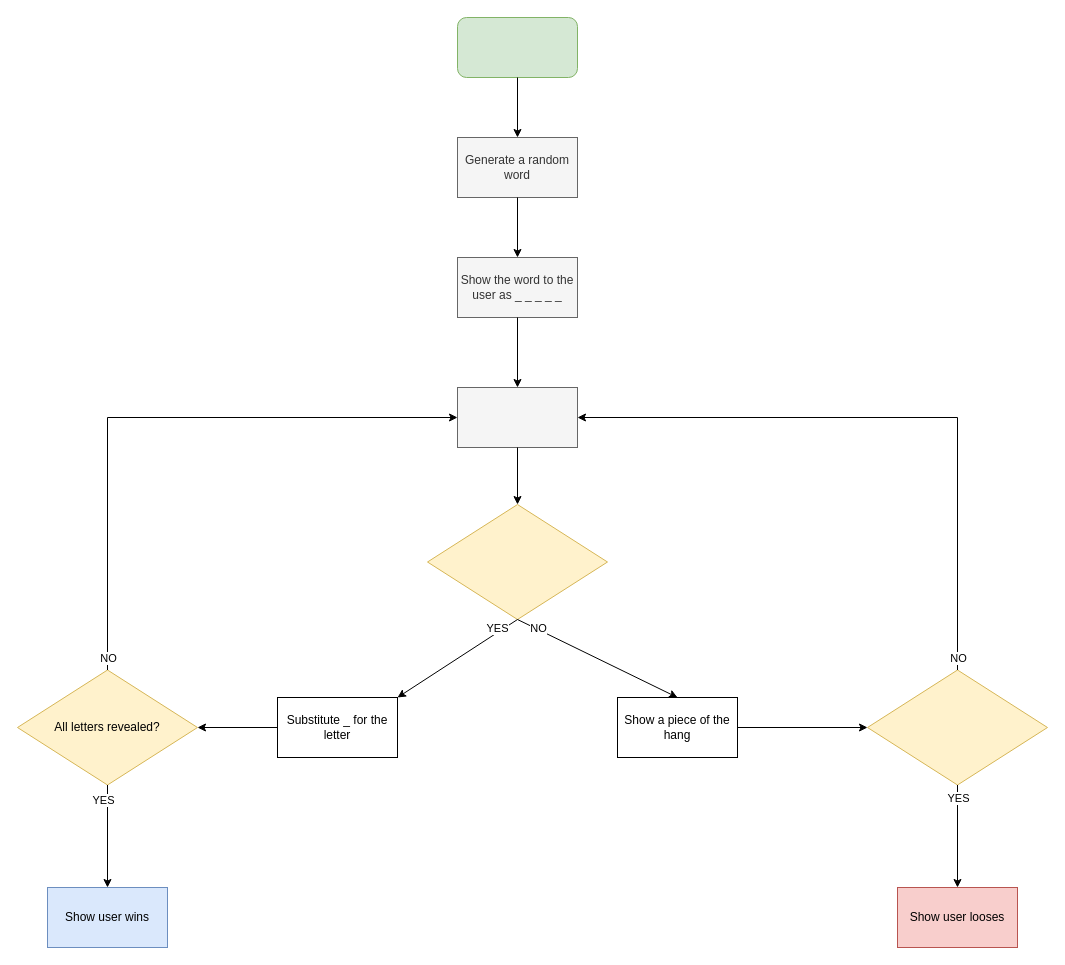
Some shapes in this 1065 by 965 pixel diagram are drawn without their labels. Each missing label, with the centre of its shape:
Ask the user to choose a letter (case insensitive): point 517,417
Hang completed?: point 957,727
Is the letter in the word?: point 517,562
Start: point 517,47
